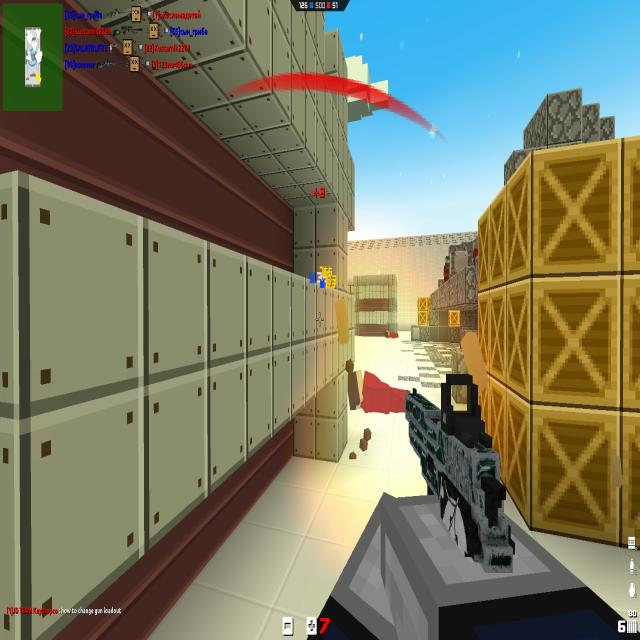player: (348, 370, 412, 416), (443, 256, 450, 281), (472, 248, 478, 259)
